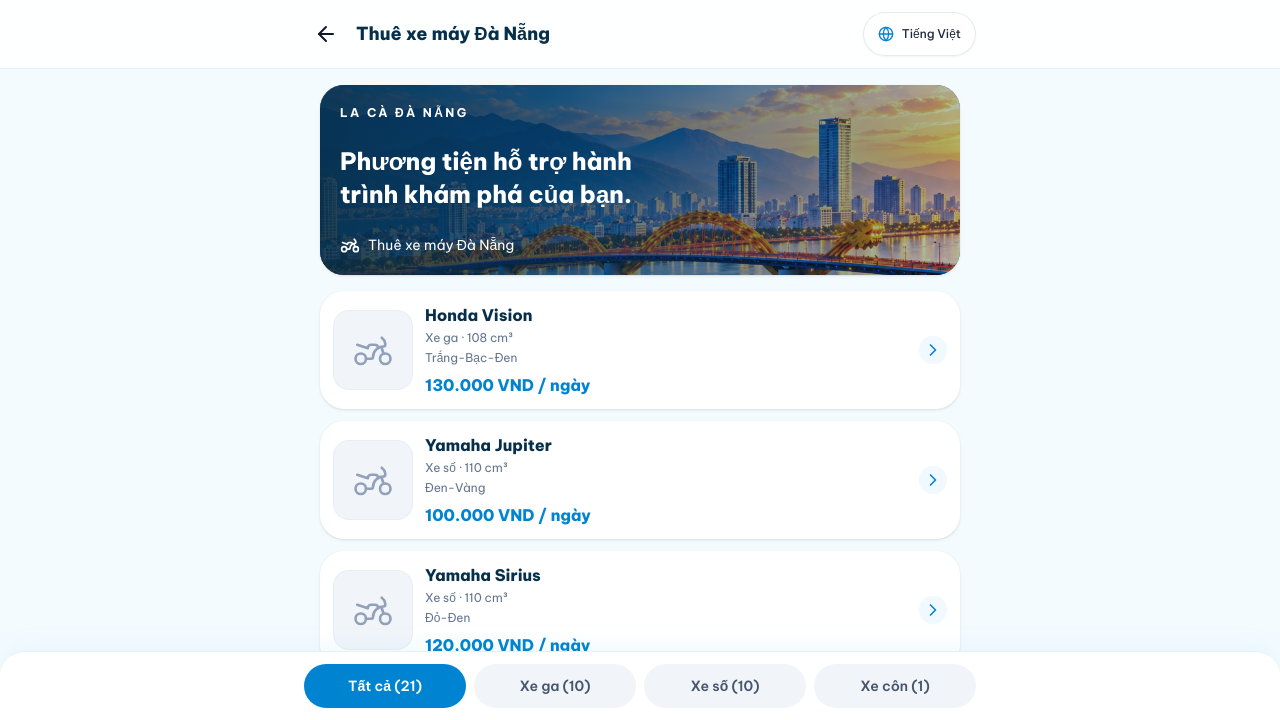
Scenario: rental review › filters physical vehicles using truthful computed counts
What coordinates should you click on to do the following:
click the button "Xe côn (1)"
I would click on:
 (895, 686)
Its box is [814,664,976,708].
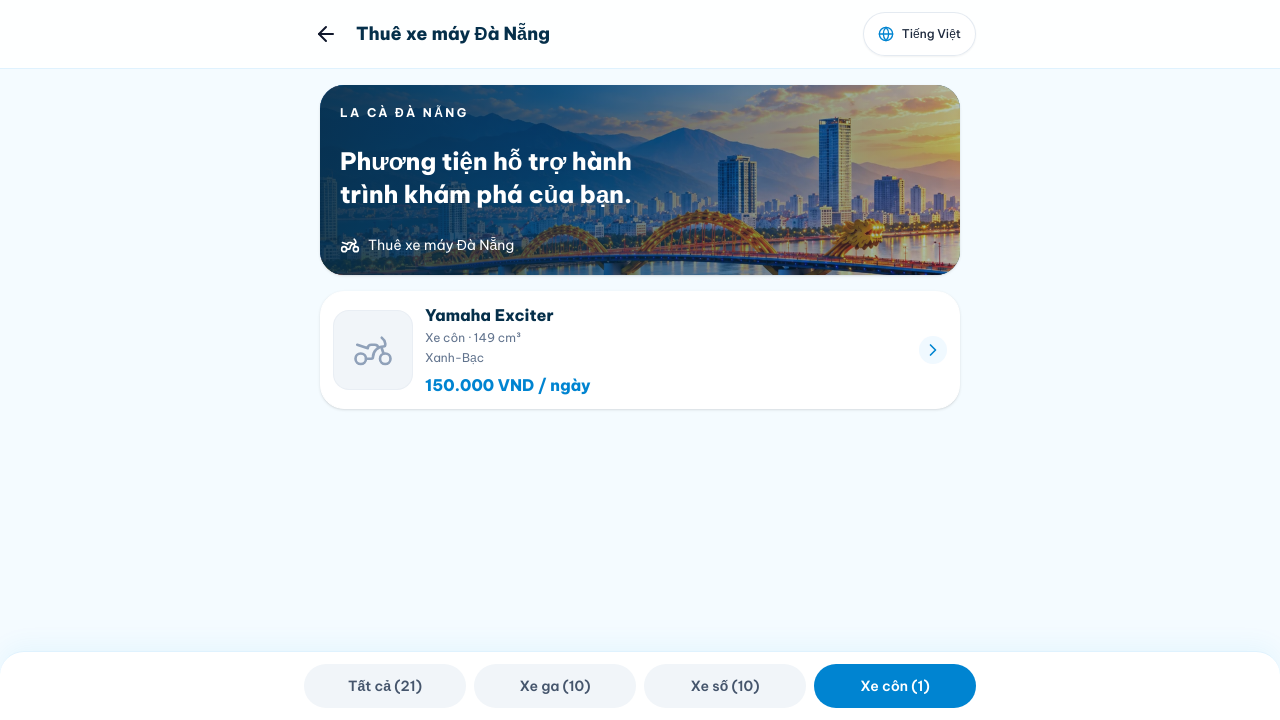
Expected: the text "Yamaha Exciter" is shown, [425,305,554,325]
Expected: the button "Honda Vision" is gone
